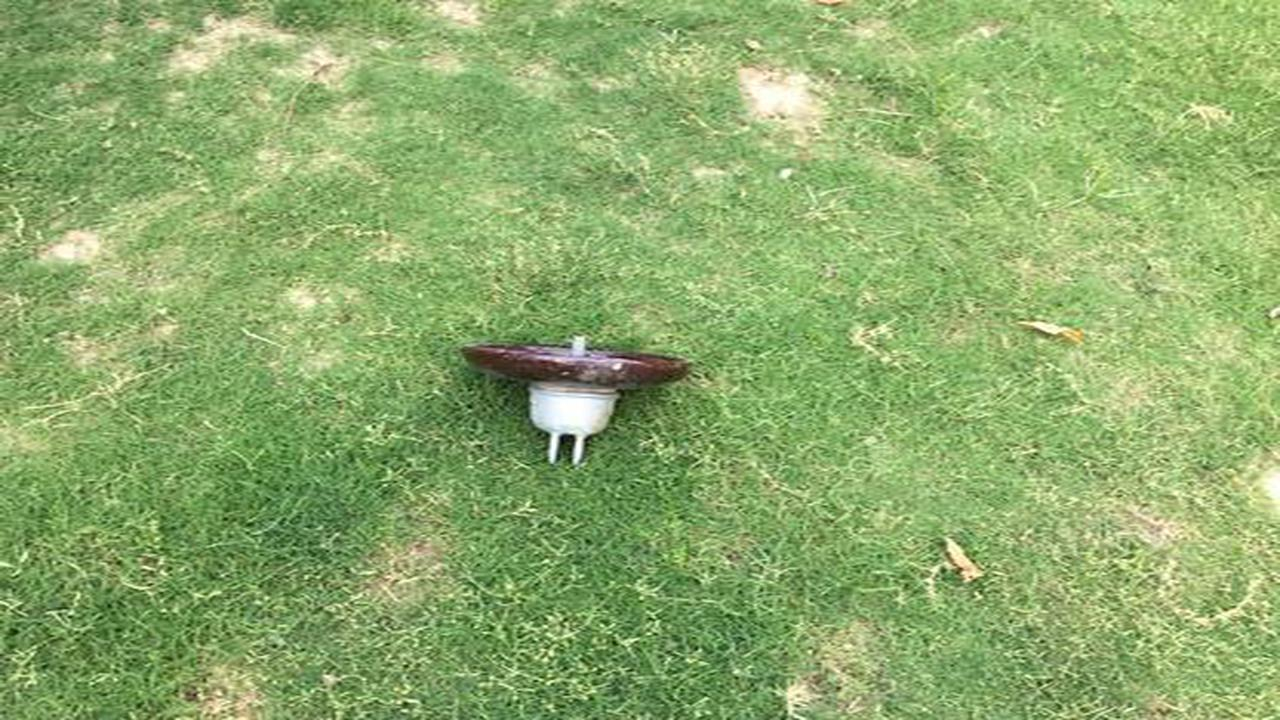insulator_disc: (456, 327, 697, 475)
